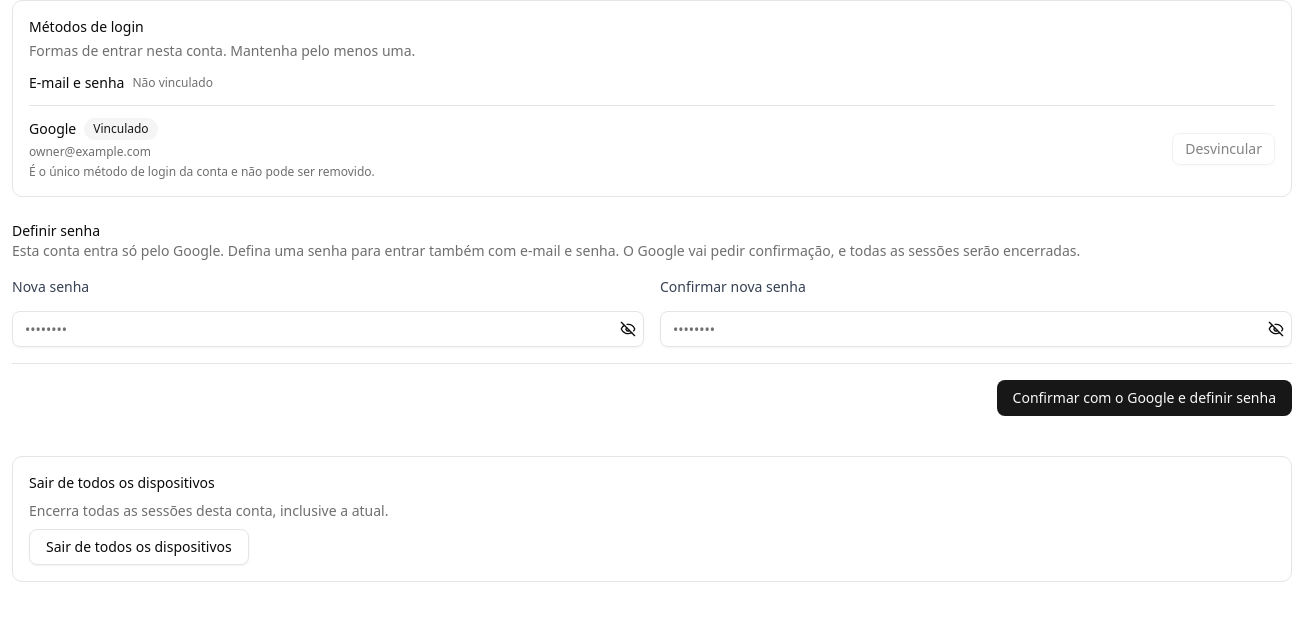
Test: AccountSecurityForm — conta sem senha › não abre o popup quando a confirmação não bate
The width and height of the screenshot is (1304, 627).
In the password field labelled "Nova senha": (328, 329) [12, 311, 644, 347], type "brand-new-secret"
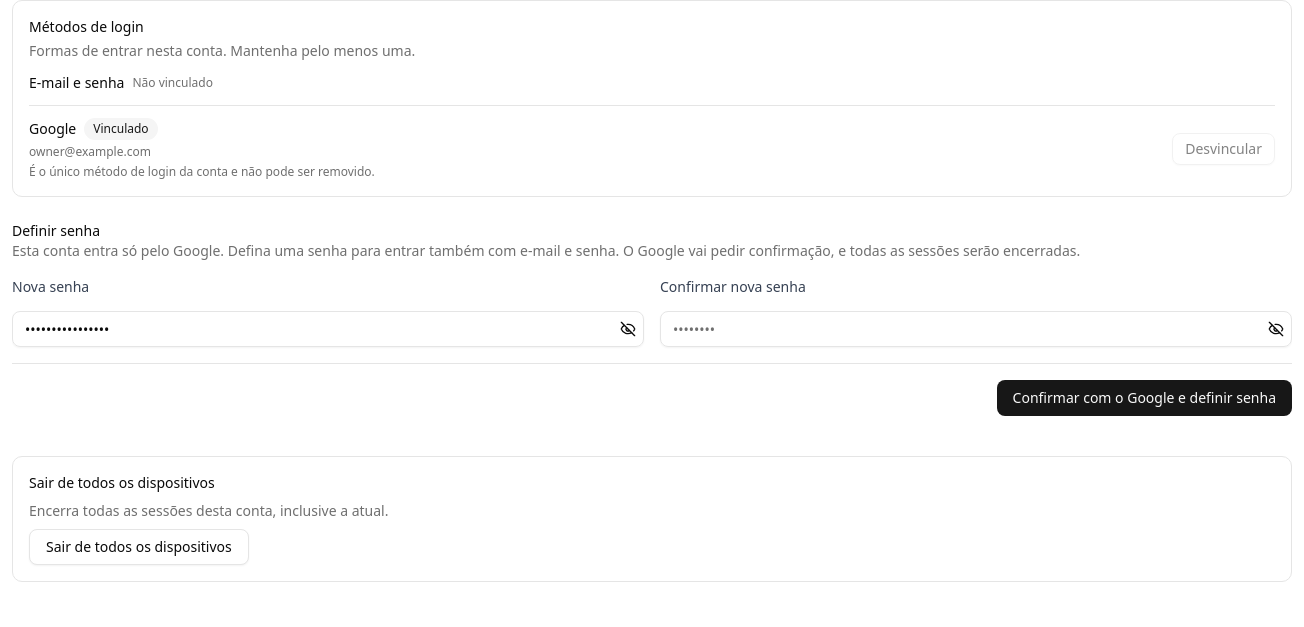
In the password field labelled "Confirmar nova senha": (976, 329) [660, 311, 1292, 347], type "another-secret"
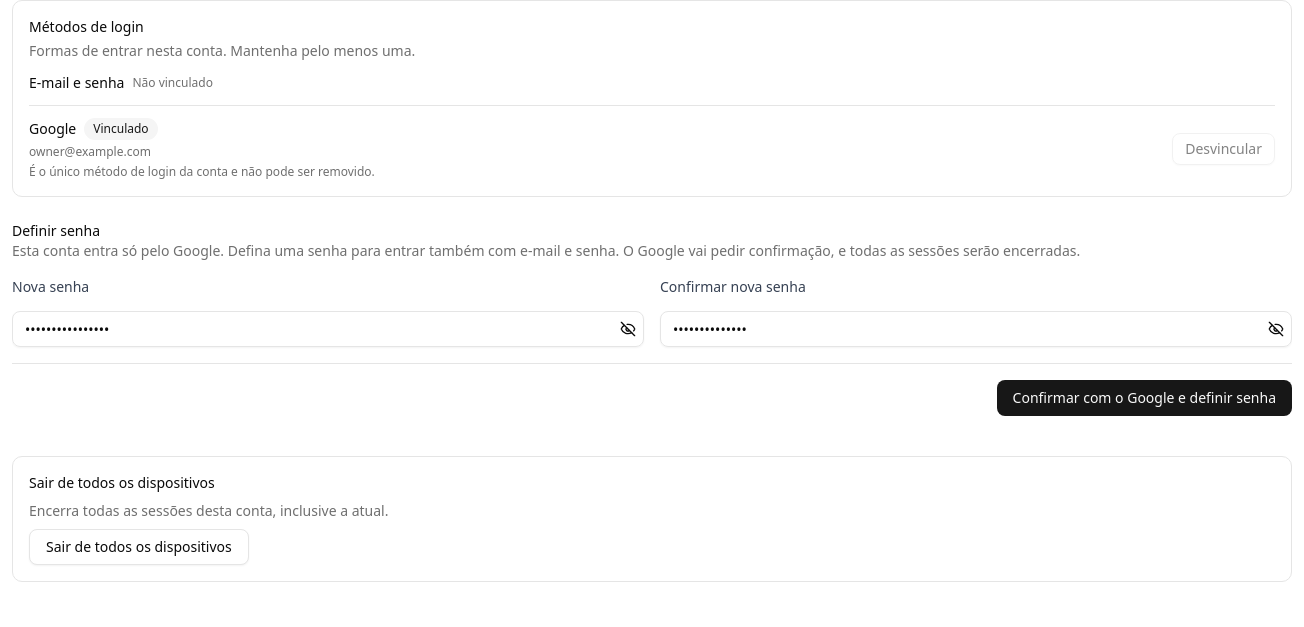
Click the button "Confirmar com o Google e definir senha": (1144, 398) [997, 380, 1292, 416]
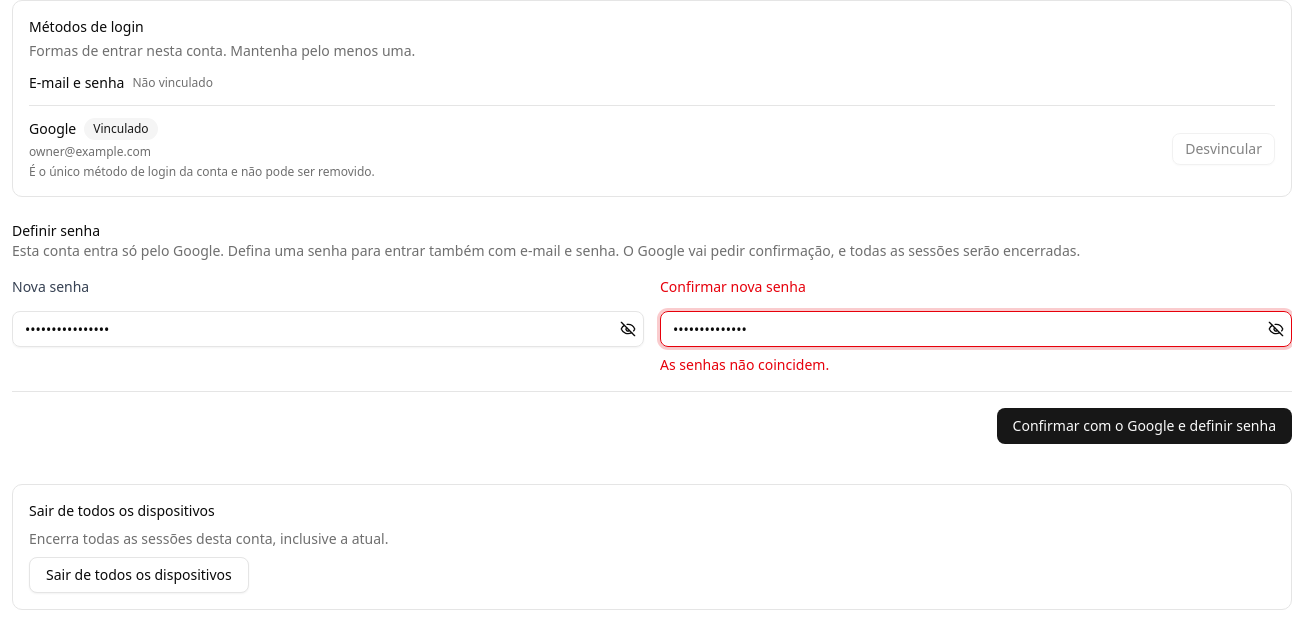
Check: the text "As senhas não coincidem." is shown, box [660, 355, 829, 374]
